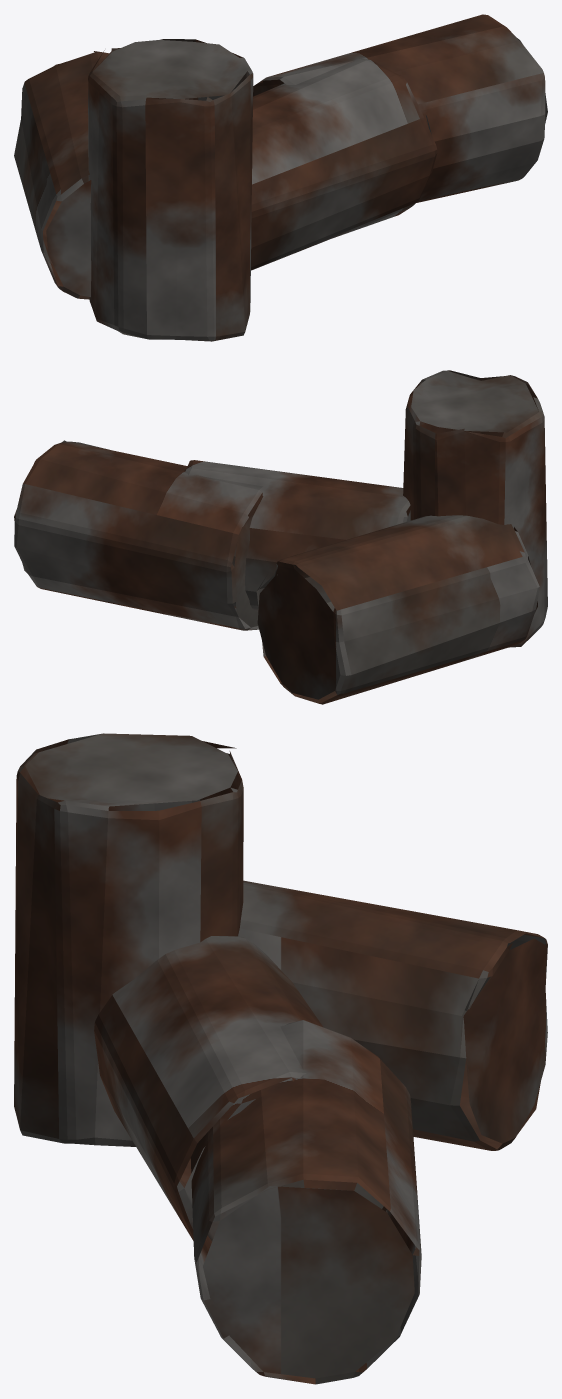
The model's file is D08_rusty_cans_v1.glb.
The picture shows the model from 3 angles, top to bottom: view 1: azimuth 30°, elevation 25°; view 2: azimuth 150°, elevation 25°; view 3: azimuth 270°, elevation 25°; orthographic projection. The views are drawn at different scales.
Parts seen in each view (by area): view 1: D08_rusty_cans_v1; view 2: D08_rusty_cans_v1; view 3: D08_rusty_cans_v1.
Part boxes in pixels (x1,y1,x2,y2): D08_rusty_cans_v1: (14,14,547,341); D08_rusty_cans_v1: (14,370,547,704); D08_rusty_cans_v1: (14,733,547,1384).
Size of the model in its own units: 0.1998 by 0.0955 by 0.1311.
1 material, 1 textured.
